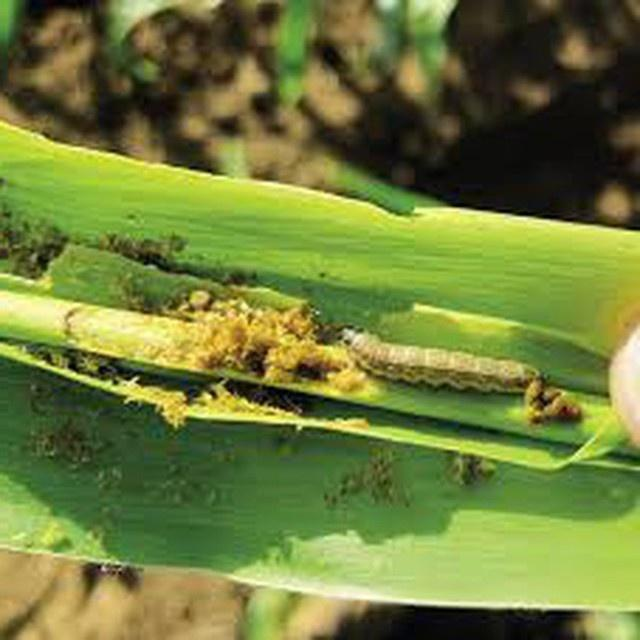gusano_cogollero: (336, 328, 532, 402)
